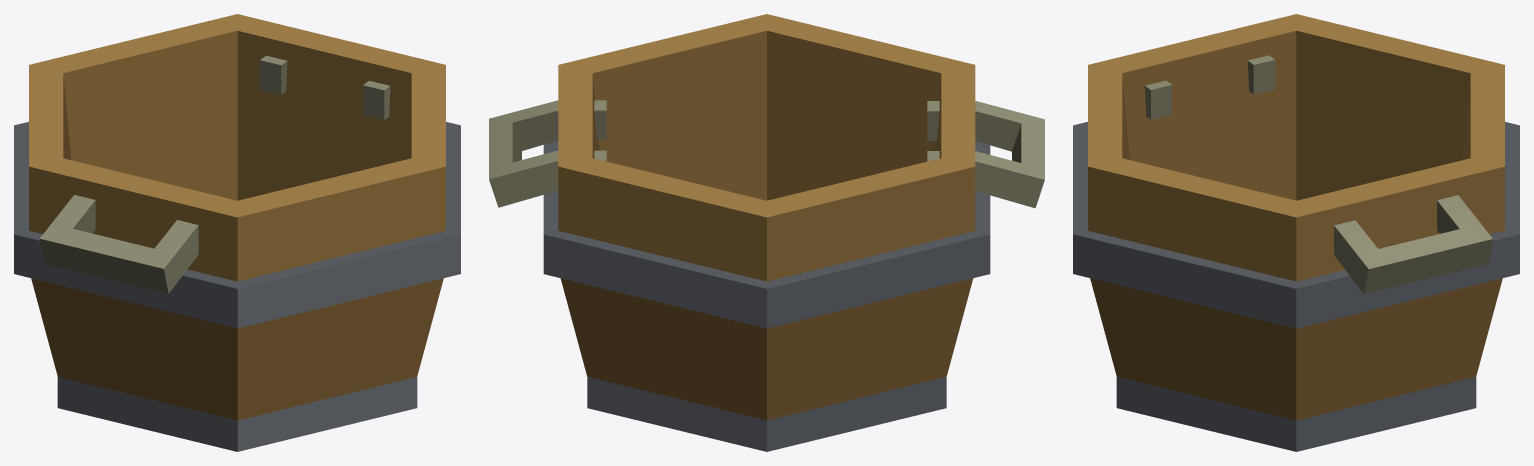
File: Bucket.gltf
The picture shows the model from 3 angles, left to right: view 1: azimuth 30°, elevation 25°; view 2: azimuth 150°, elevation 25°; view 3: azimuth 270°, elevation 25°; orthographic projection.
Parts seen in each view (by area): view 1: SF_Prop_Bucket_01; view 2: SF_Prop_Bucket_01; view 3: SF_Prop_Bucket_01.
Part boxes in pixels (box(x1,y1,x2,y2)): SF_Prop_Bucket_01: box(14, 14, 460, 451); SF_Prop_Bucket_01: box(489, 14, 1044, 451); SF_Prop_Bucket_01: box(1073, 14, 1519, 451).
Size of the model in its own units: 0.0149 by 0.00736 by 0.012.
1 material, 1 textured.
